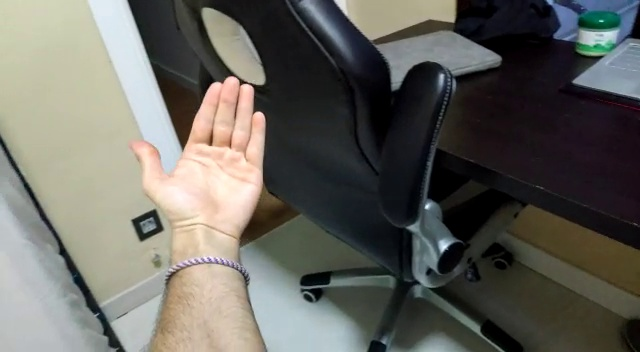Palm: (128, 70, 269, 237)
